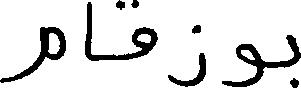X: (0, 22, 63, 87), (171, 20, 204, 87), (223, 39, 261, 87), (133, 0, 154, 62), (287, 30, 300, 87), (87, 0, 91, 87)
